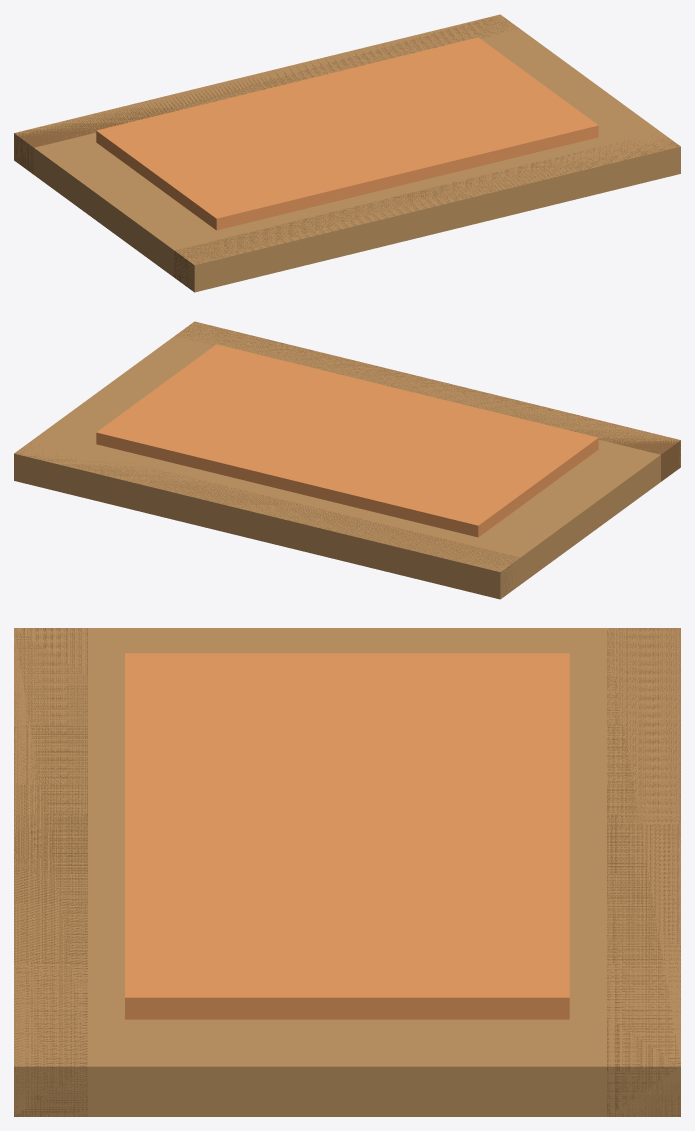
The model's file is welcome_mat.glb.
3 renders of one model, top to bottom at view 1: azimuth 30°, elevation 25°; view 2: azimuth 150°, elevation 25°; view 3: azimuth 270°, elevation 25°, orthographic. The views are drawn at different scales.
Parts seen in each view (by area): view 1: welcome_mat; view 2: welcome_mat; view 3: welcome_mat.
Boxes of the visible parts, box(x1,y1,x2,y2) form: welcome_mat: box(14, 14, 680, 292); welcome_mat: box(14, 321, 680, 599); welcome_mat: box(14, 628, 680, 1116).
Size of the model in its own units: 28 by 2.15 by 18.
